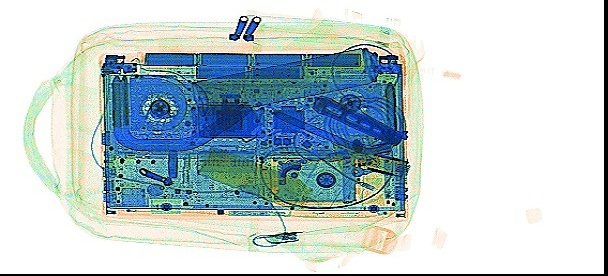knife: (309, 93, 403, 145)
pressure: (188, 46, 383, 118), (194, 143, 331, 212)
